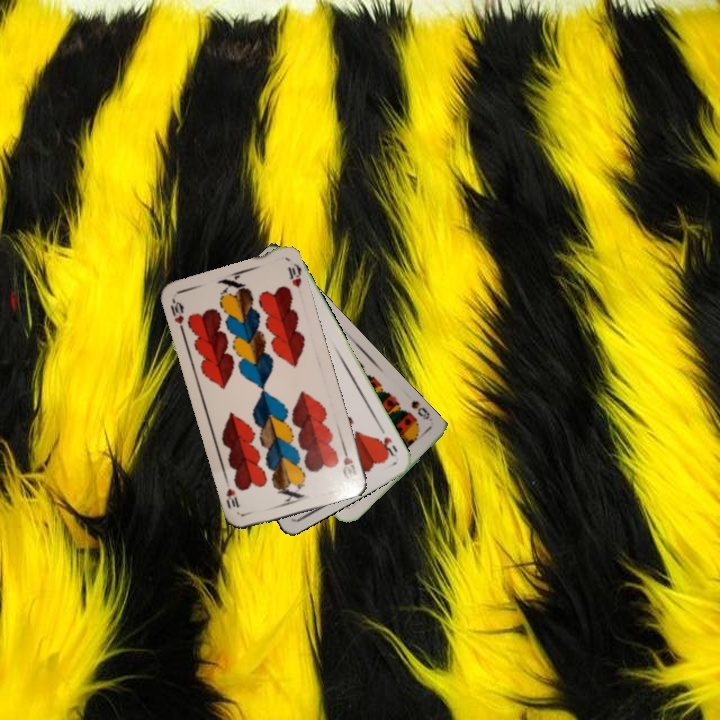H10: (166, 295, 187, 335), (338, 442, 359, 478)
HO: (374, 422, 400, 460)
S8: (407, 396, 435, 424)
